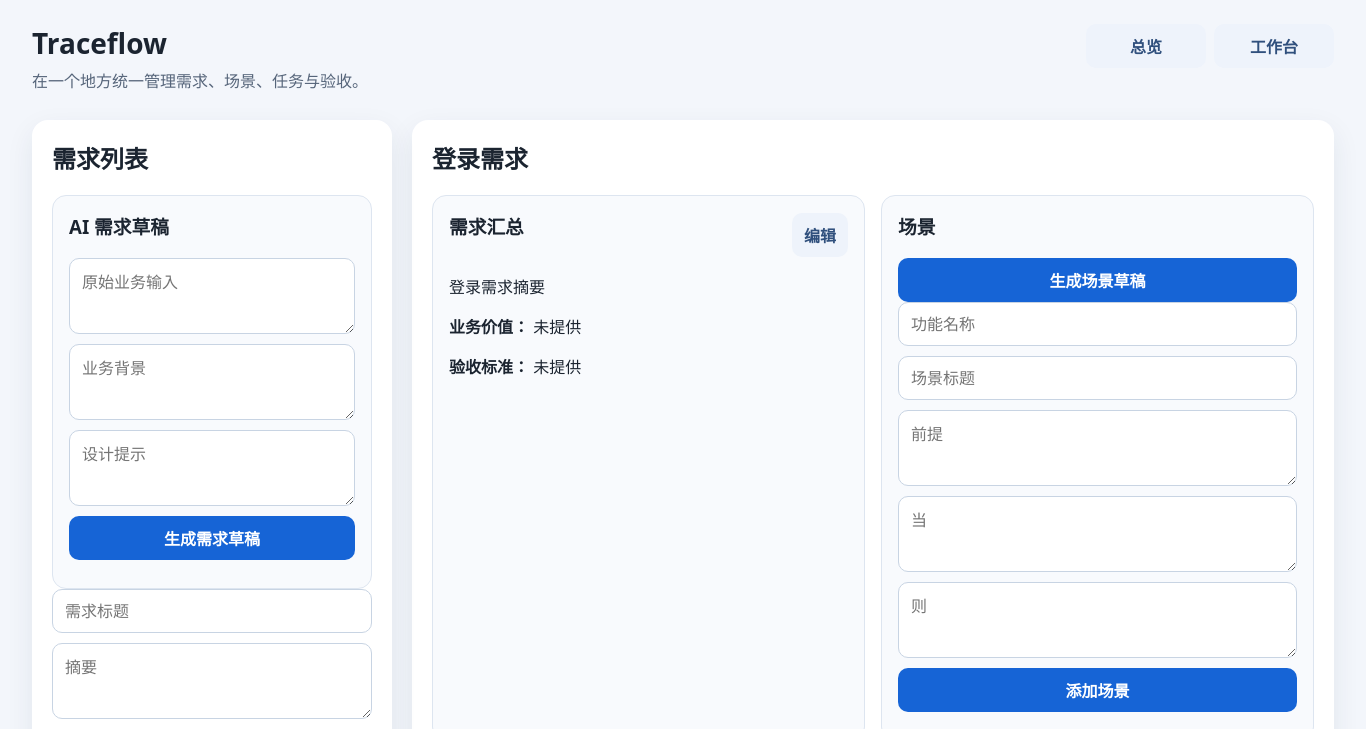
Scenario: App › supports dashboard quick-filter cards and insight drill-down
The width and height of the screenshot is (1366, 729).
Expected: the text "登录需求摘要" is shown, [449,276,545,298]
Step 1. Click the button "总览" → (1146, 46), box [1086,24,1206,68]
(page scrolled)
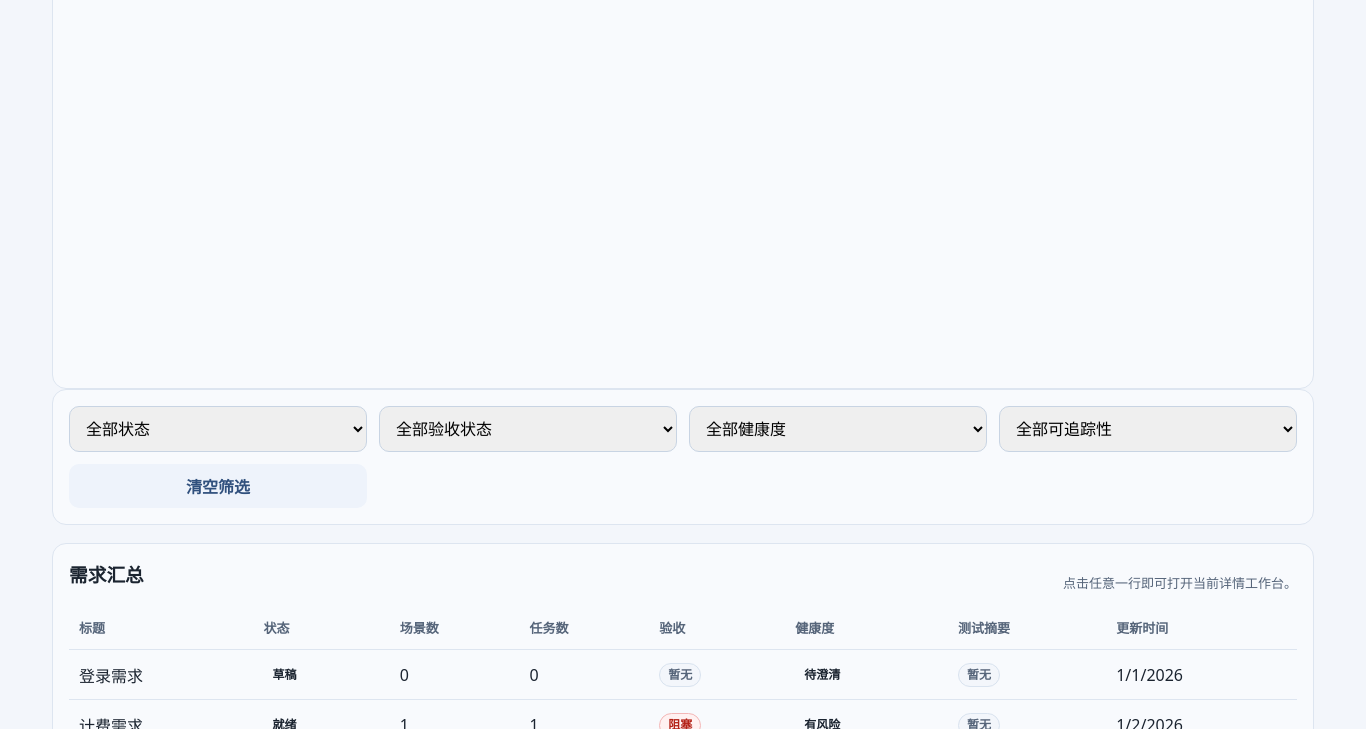
Expected: the cell "登录需求" is shown, [69,649,254,700]
Step 2. Select "有风险" in the dropdown named "总览健康度筛选" → (838, 429), box [689,406,987,452]
(page scrolled)
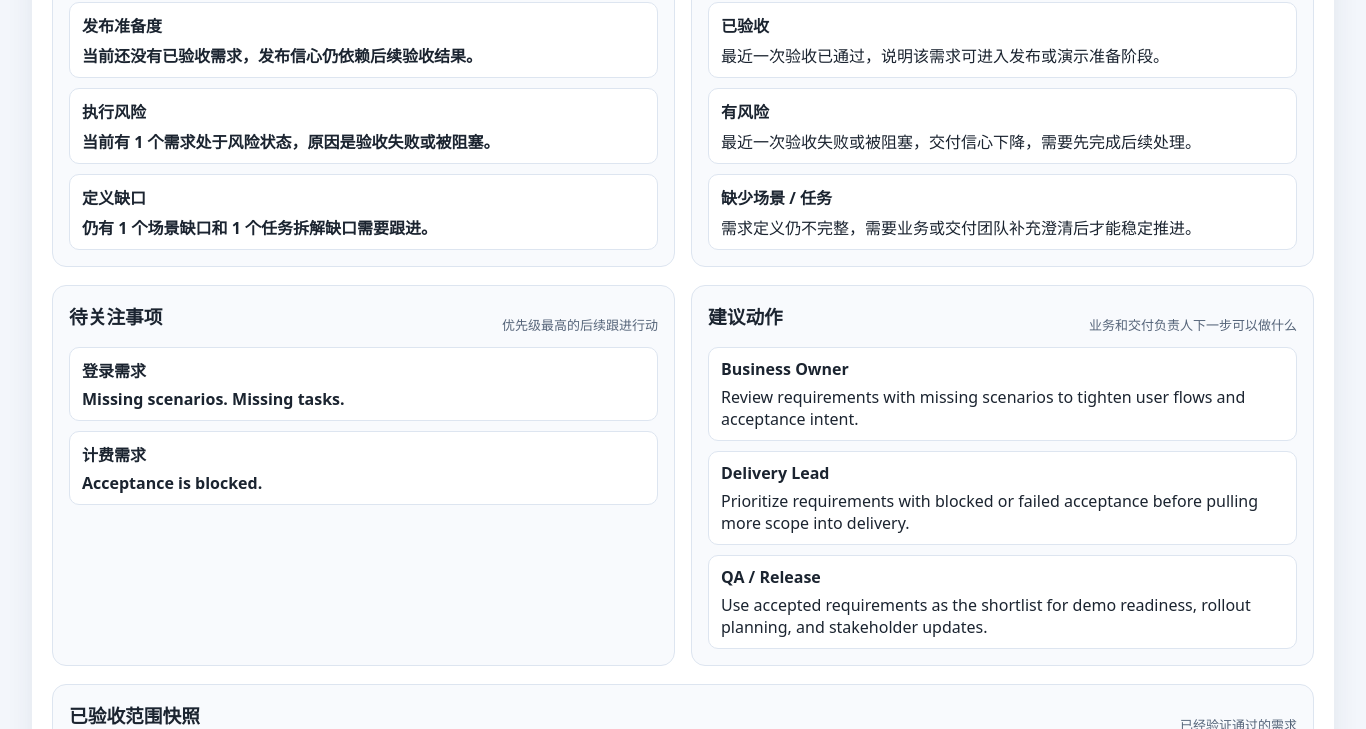
Step 3. Click the button "登录需求 Missing scenarios. Missing tasks." → (114, 371), box [82,358,645,410]
(page scrolled)
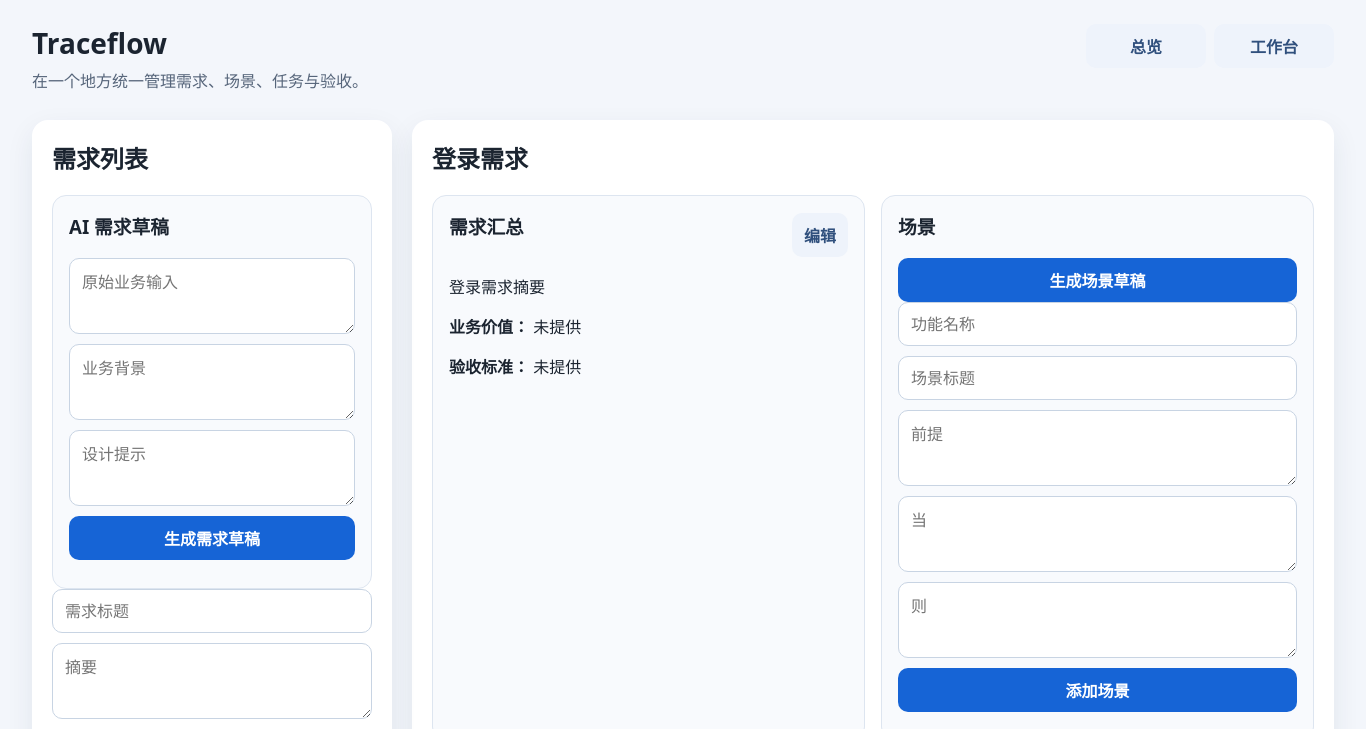
Expected: the button "总览" is shown, [1086,24,1206,68]
Expected: the heading "登录需求" is shown, [432,142,528,175]
